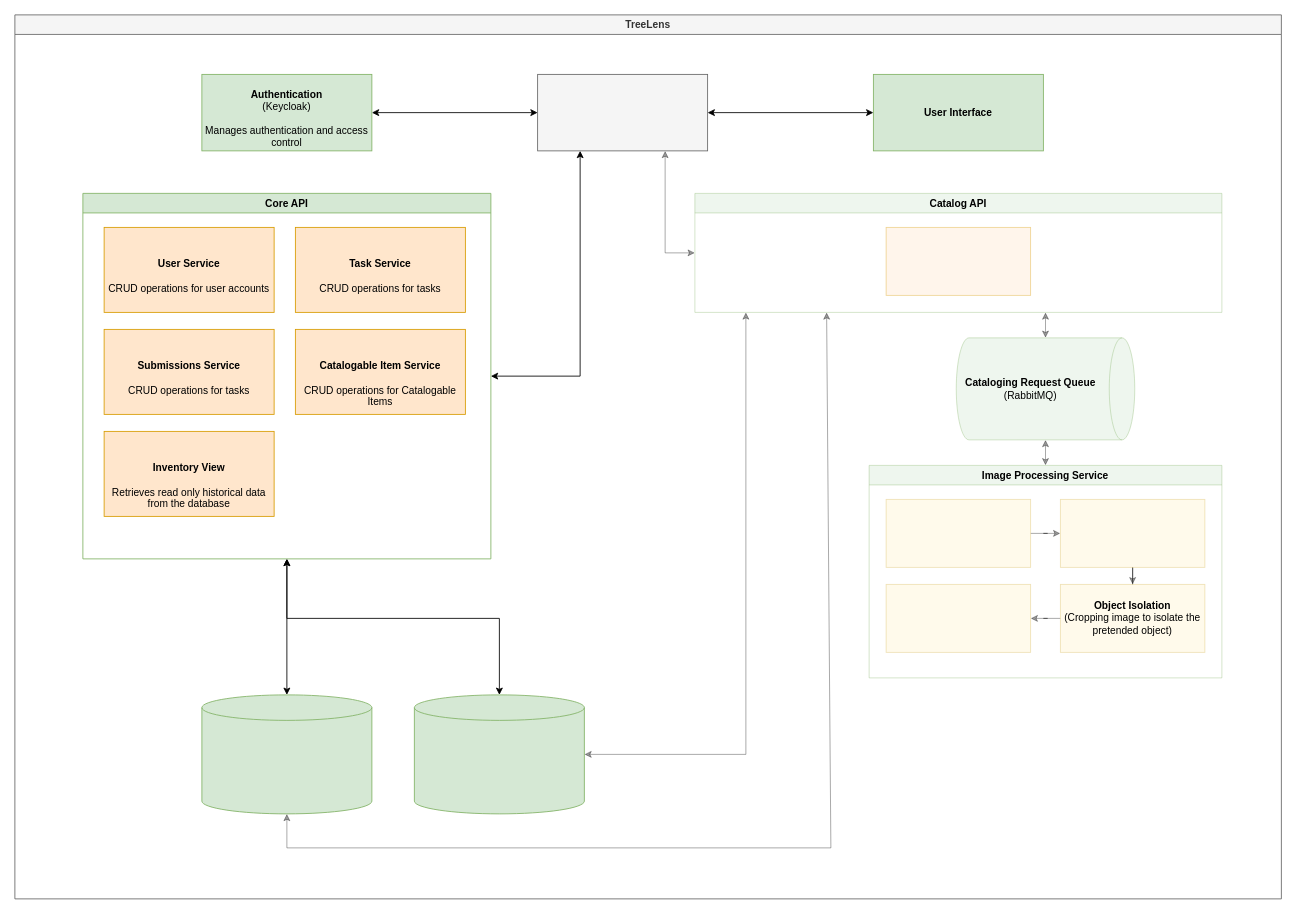
The diagram is 1296 pixels wide and 914 high, and some of its shapes have lost their labels. Here are the shapes that lost their labels. From the top down, the centre of each, then its label:
At point (622, 112): "Reverse Proxy (NGINX)".
At point (958, 261): "Item Cataloging Service CRUD operations for tasks".
At point (958, 533): "Object discovery (Finds object in image)".
At point (1132, 533): "Object position determination (Estimates GPS location of object)".
At point (958, 618): "Object Identification (Identification of object type or species)".
At point (286, 754): "Relational DB (PostGIS) Stores content to be displayed in the frontend".
At point (499, 754): "File Based Storage (rustfs) Stores cataloged images".
